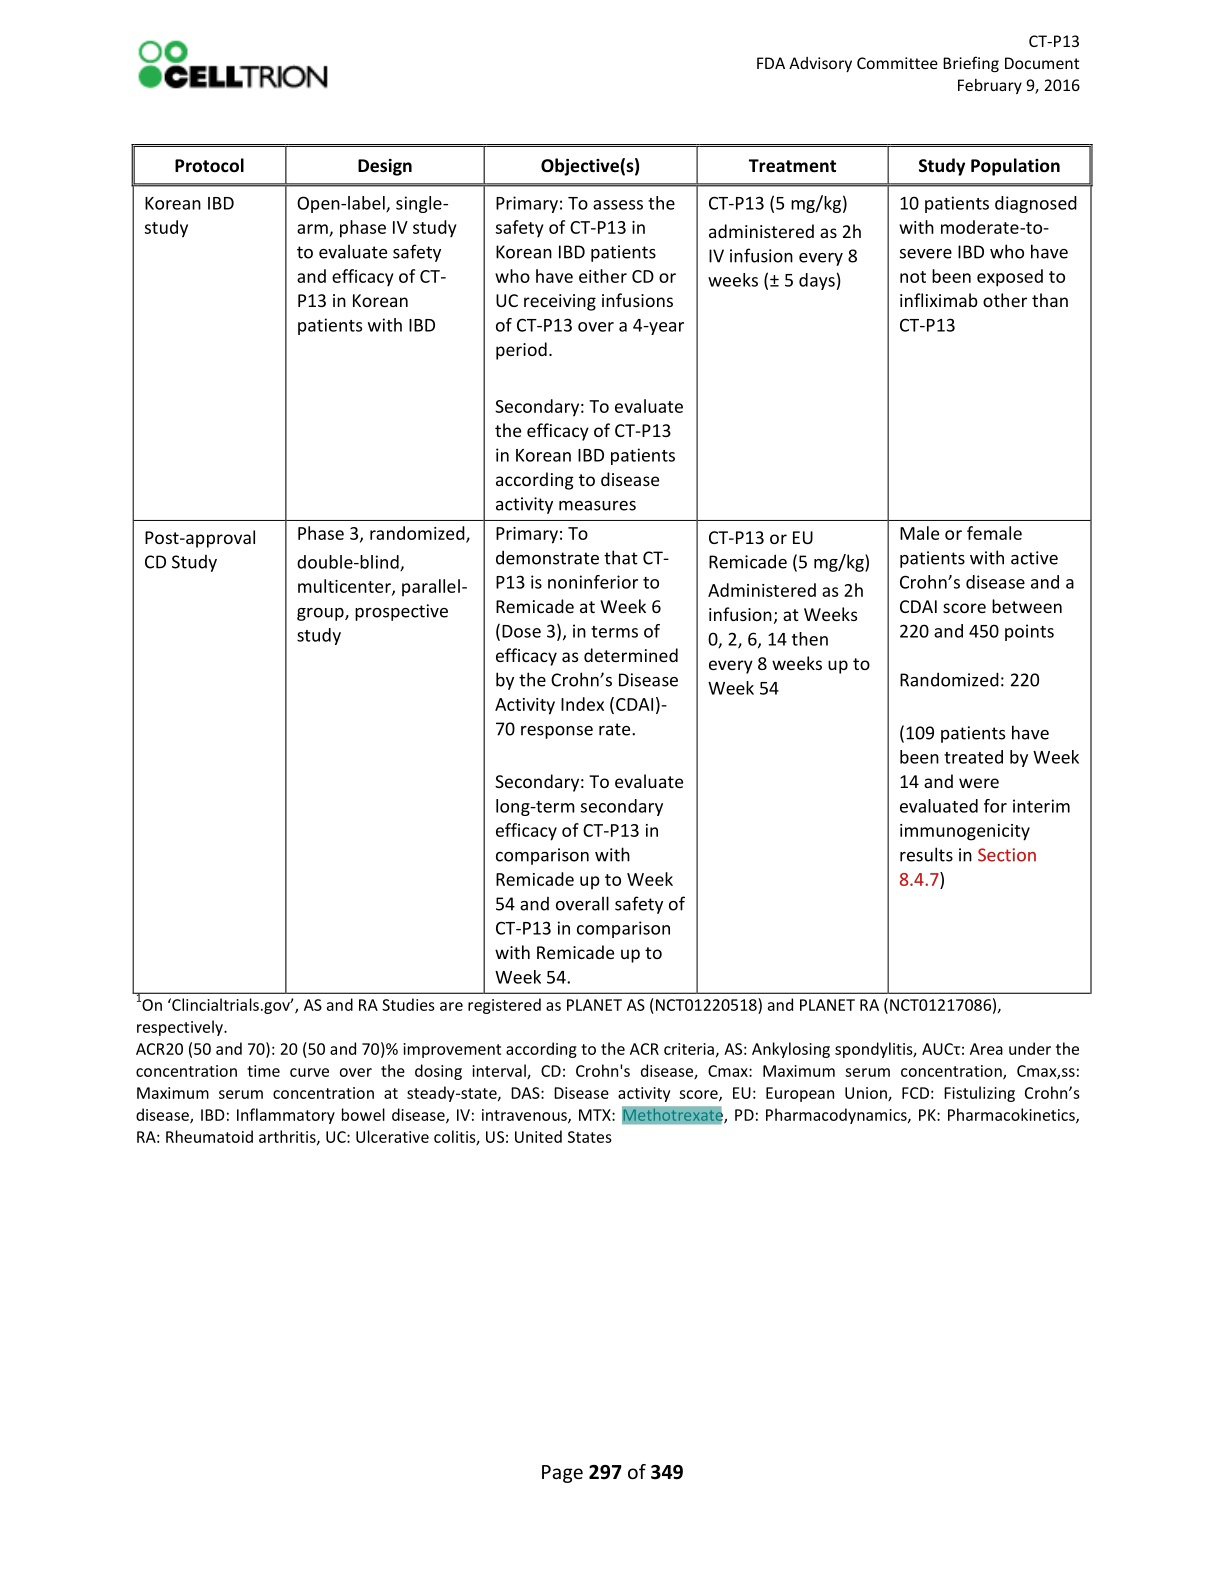full_lined: (131, 143, 1093, 995)
